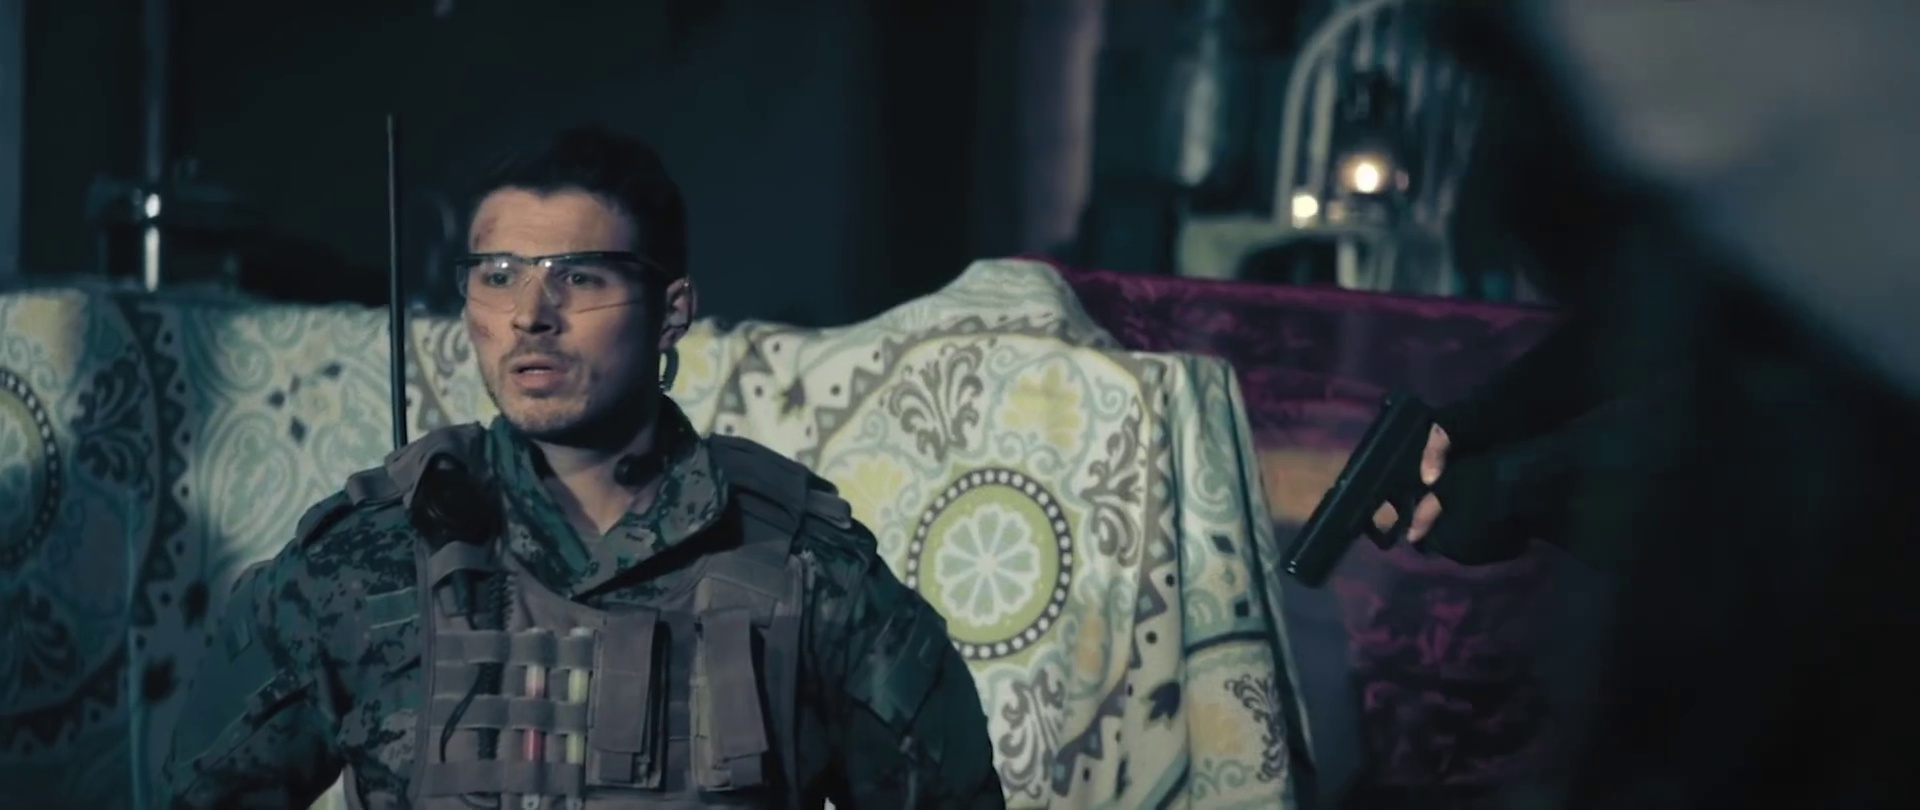gun: (1277, 384, 1489, 591)
p_w_gun: (1264, 274, 1861, 608)
p_wo_gun_not_carrying_normal_pose: (160, 117, 1009, 810)
